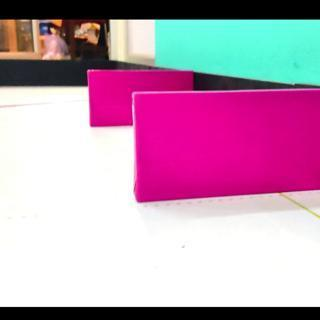xparking: (138, 95, 320, 204), (90, 70, 131, 126)
